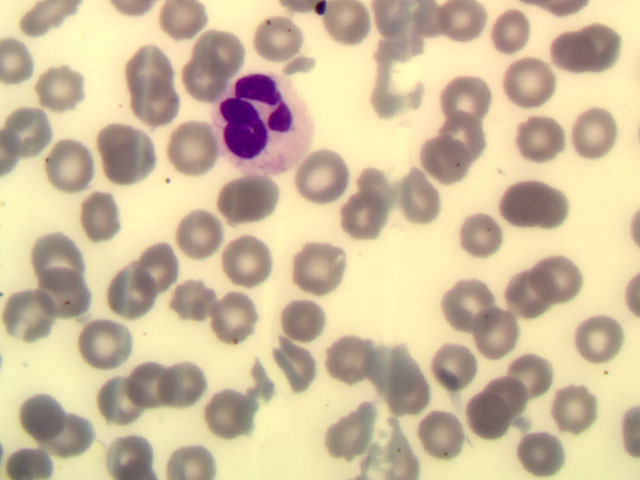RBC: (192, 26, 248, 78), (185, 59, 241, 111), (126, 40, 182, 92), (129, 81, 185, 133), (164, 121, 220, 173), (99, 129, 155, 181), (46, 140, 102, 192), (35, 60, 91, 112), (8, 105, 64, 157), (80, 194, 136, 246), (33, 220, 89, 272), (33, 267, 89, 319), (7, 297, 63, 349), (103, 267, 159, 319), (144, 242, 200, 294), (177, 202, 233, 254), (214, 179, 270, 231), (300, 151, 356, 203), (337, 193, 393, 245), (365, 165, 421, 217), (396, 177, 452, 229), (418, 136, 474, 188), (444, 109, 500, 161), (441, 75, 497, 127), (509, 59, 565, 111), (488, 10, 544, 62), (540, 14, 596, 66), (564, 107, 620, 159), (522, 111, 578, 163), (500, 175, 556, 227), (457, 211, 513, 263), (540, 254, 596, 306), (511, 267, 567, 319), (471, 315, 527, 367), (441, 285, 497, 337), (435, 341, 491, 393), (460, 380, 516, 432), (483, 370, 539, 422), (512, 351, 568, 403), (565, 319, 621, 371), (536, 390, 592, 442), (518, 423, 574, 475), (422, 409, 478, 461), (378, 363, 434, 415), (326, 333, 382, 385), (270, 291, 326, 343), (288, 237, 344, 289), (260, 341, 316, 393), (225, 226, 281, 278), (206, 305, 262, 357), (180, 280, 236, 332), (164, 355, 220, 407), (119, 370, 175, 422), (94, 387, 150, 439), (29, 402, 85, 454), (95, 428, 151, 480), (145, 428, 201, 480), (212, 388, 268, 440), (325, 404, 381, 456), (27, 5, 83, 57), (260, 17, 316, 69), (433, 1, 489, 52), (319, 1, 375, 52), (373, 1, 429, 52)
WBC: (217, 78, 318, 172)
